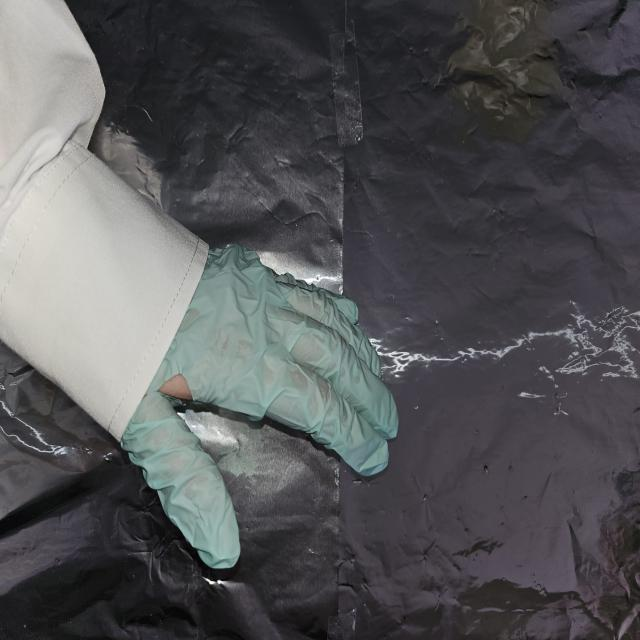gloves_damaged: (122, 240, 401, 569)
